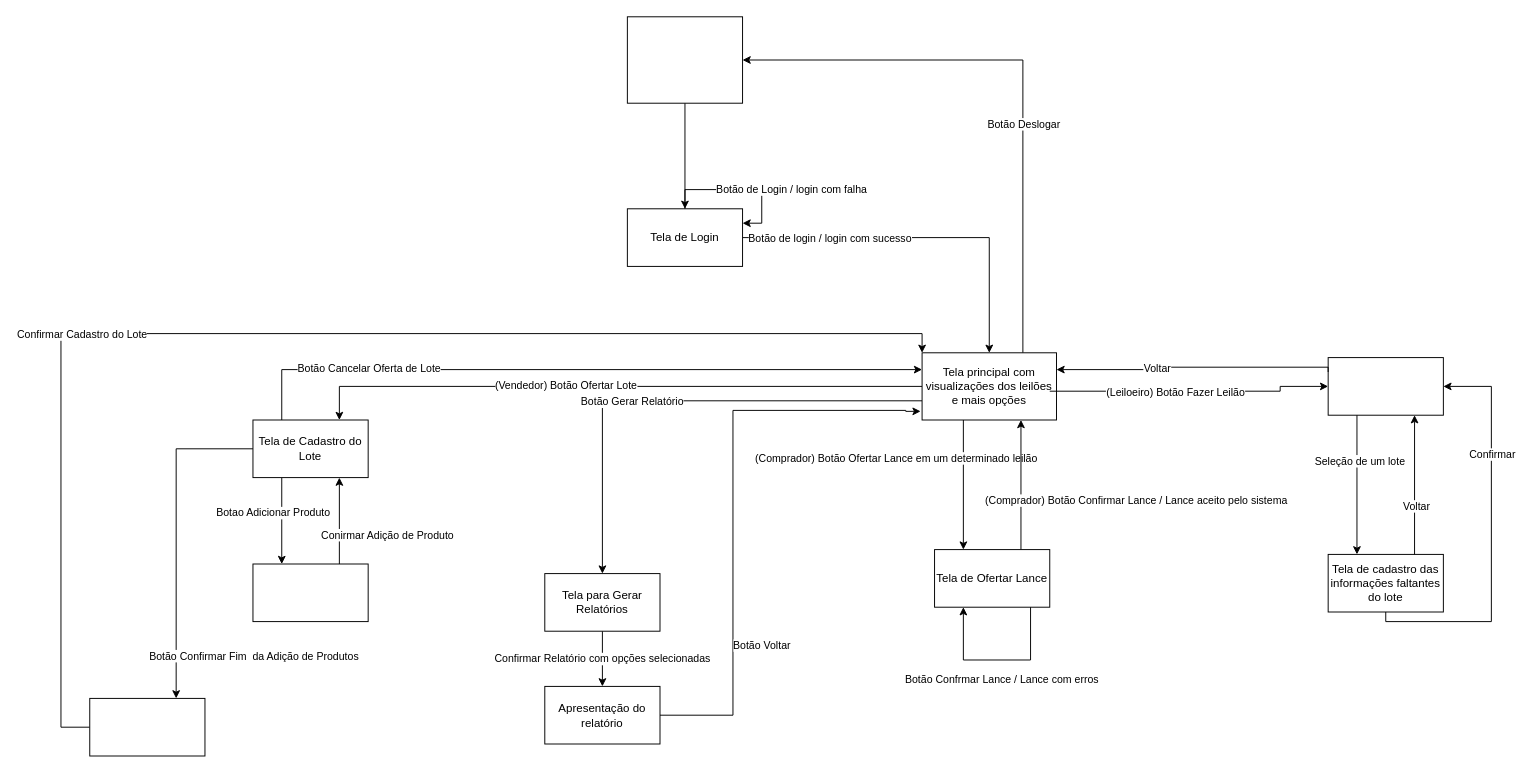
The diagram is 1531 pixels wide and 773 high, and some of its shapes have lost their labels. The shapes that lost their labels are listed below. From the top down, each one's centre as x and y in pixels, then its label:
At (x=684, y=59): "Tela com lista de leilões ocorrendo (somente visualização)".
At (x=1385, y=386): "Tela com lista de lotes cadastrados".
At (x=310, y=592): "Tela de Cadastro de Produto".
At (x=147, y=726): "Tela de cadastro dos valores do lote".
